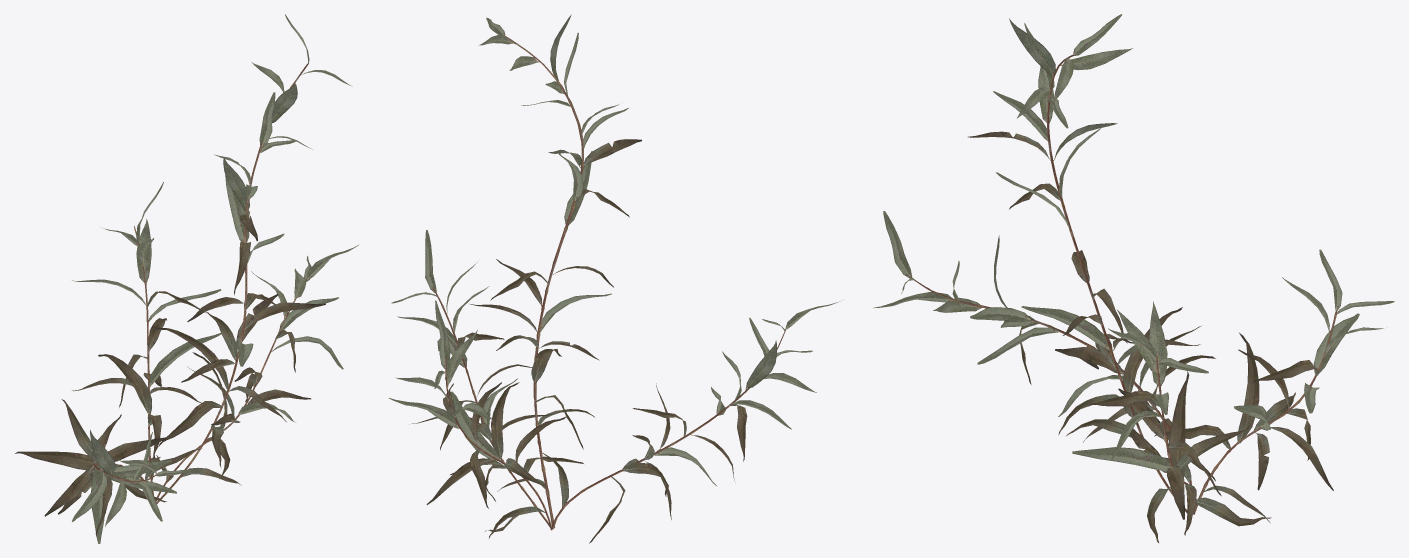
File: natural-shrub-weathered.glb
The picture shows the model from 3 angles, left to right: view 1: azimuth 30°, elevation 25°; view 2: azimuth 150°, elevation 25°; view 3: azimuth 270°, elevation 25°; orthographic projection. The views are drawn at different scales.
Parts seen in each view (by area): view 1: natural-shrub-weathered runtime mesh; view 2: natural-shrub-weathered runtime mesh; view 3: natural-shrub-weathered runtime mesh.
Boxes of the visible parts, <box> form: natural-shrub-weathered runtime mesh: <box>15,14,358,543</box>; natural-shrub-weathered runtime mesh: <box>388,14,842,543</box>; natural-shrub-weathered runtime mesh: <box>873,14,1394,542</box>.
Size of the model in its own units: 0.6633 by 0.9 by 0.7647.
1 material, 1 textured.
